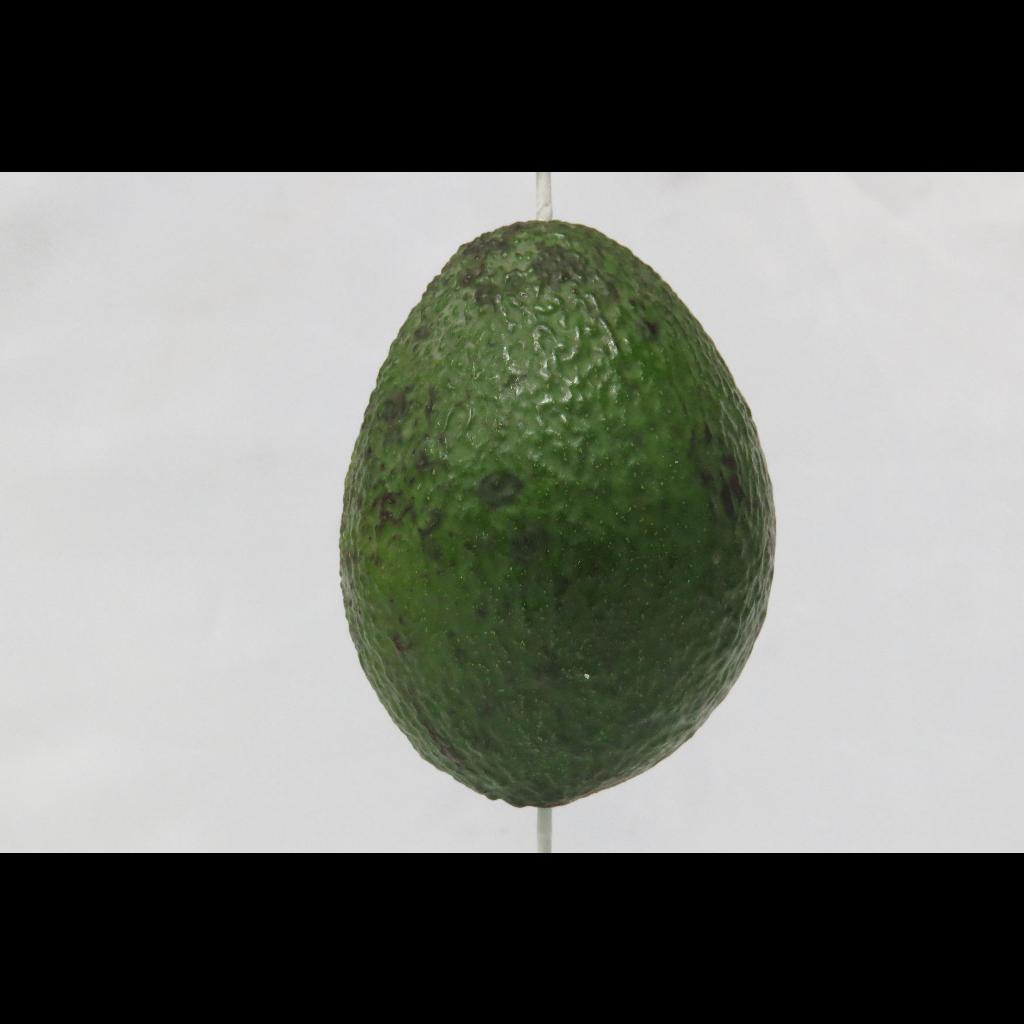fruto_sano: (325, 200, 797, 830)
